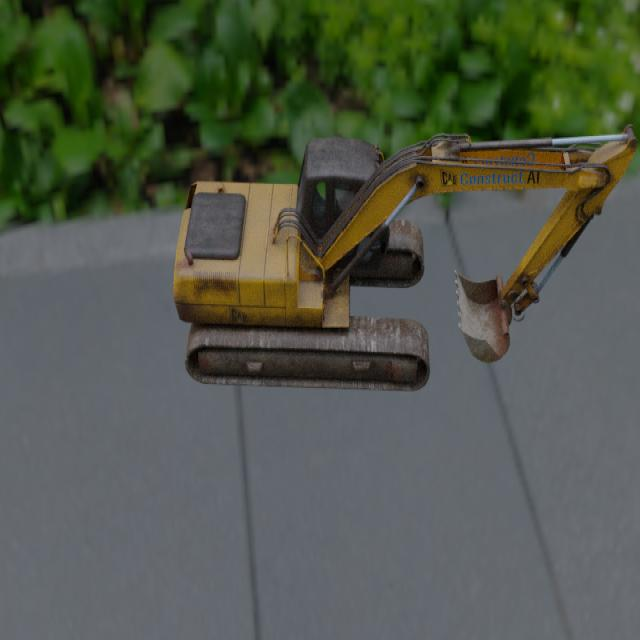excavator: (172, 122, 638, 390)
